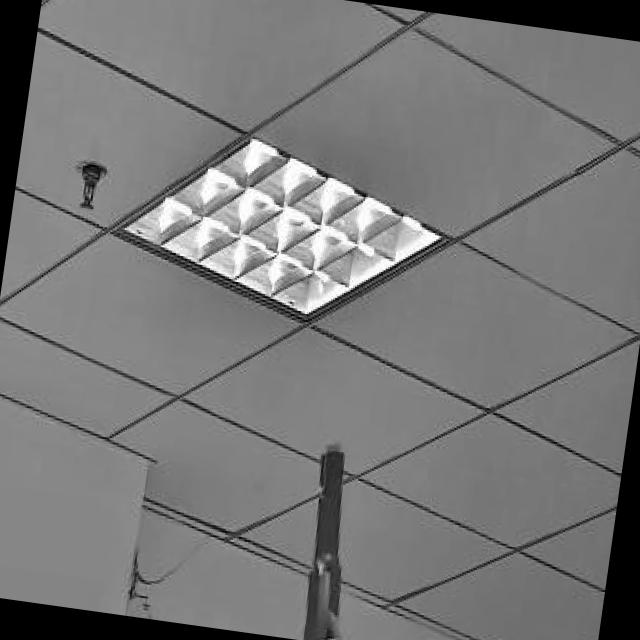Guns: (265, 421, 392, 640)
